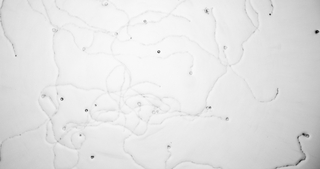germinated: (99, 0, 109, 7), (300, 131, 310, 138), (136, 102, 143, 111), (61, 121, 68, 130), (82, 44, 91, 51), (187, 66, 193, 76), (219, 115, 229, 121), (222, 45, 229, 53), (165, 144, 171, 153), (151, 106, 157, 114), (40, 93, 49, 98)
nongerminated: (313, 28, 320, 36), (88, 153, 95, 160), (155, 48, 161, 54), (141, 17, 147, 23), (83, 107, 89, 113), (58, 96, 64, 102), (77, 132, 83, 138), (51, 26, 57, 32), (92, 102, 98, 107)
